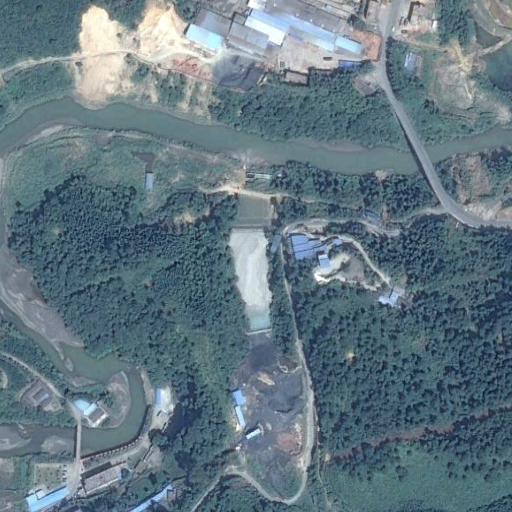tp: (225, 197, 273, 334)
